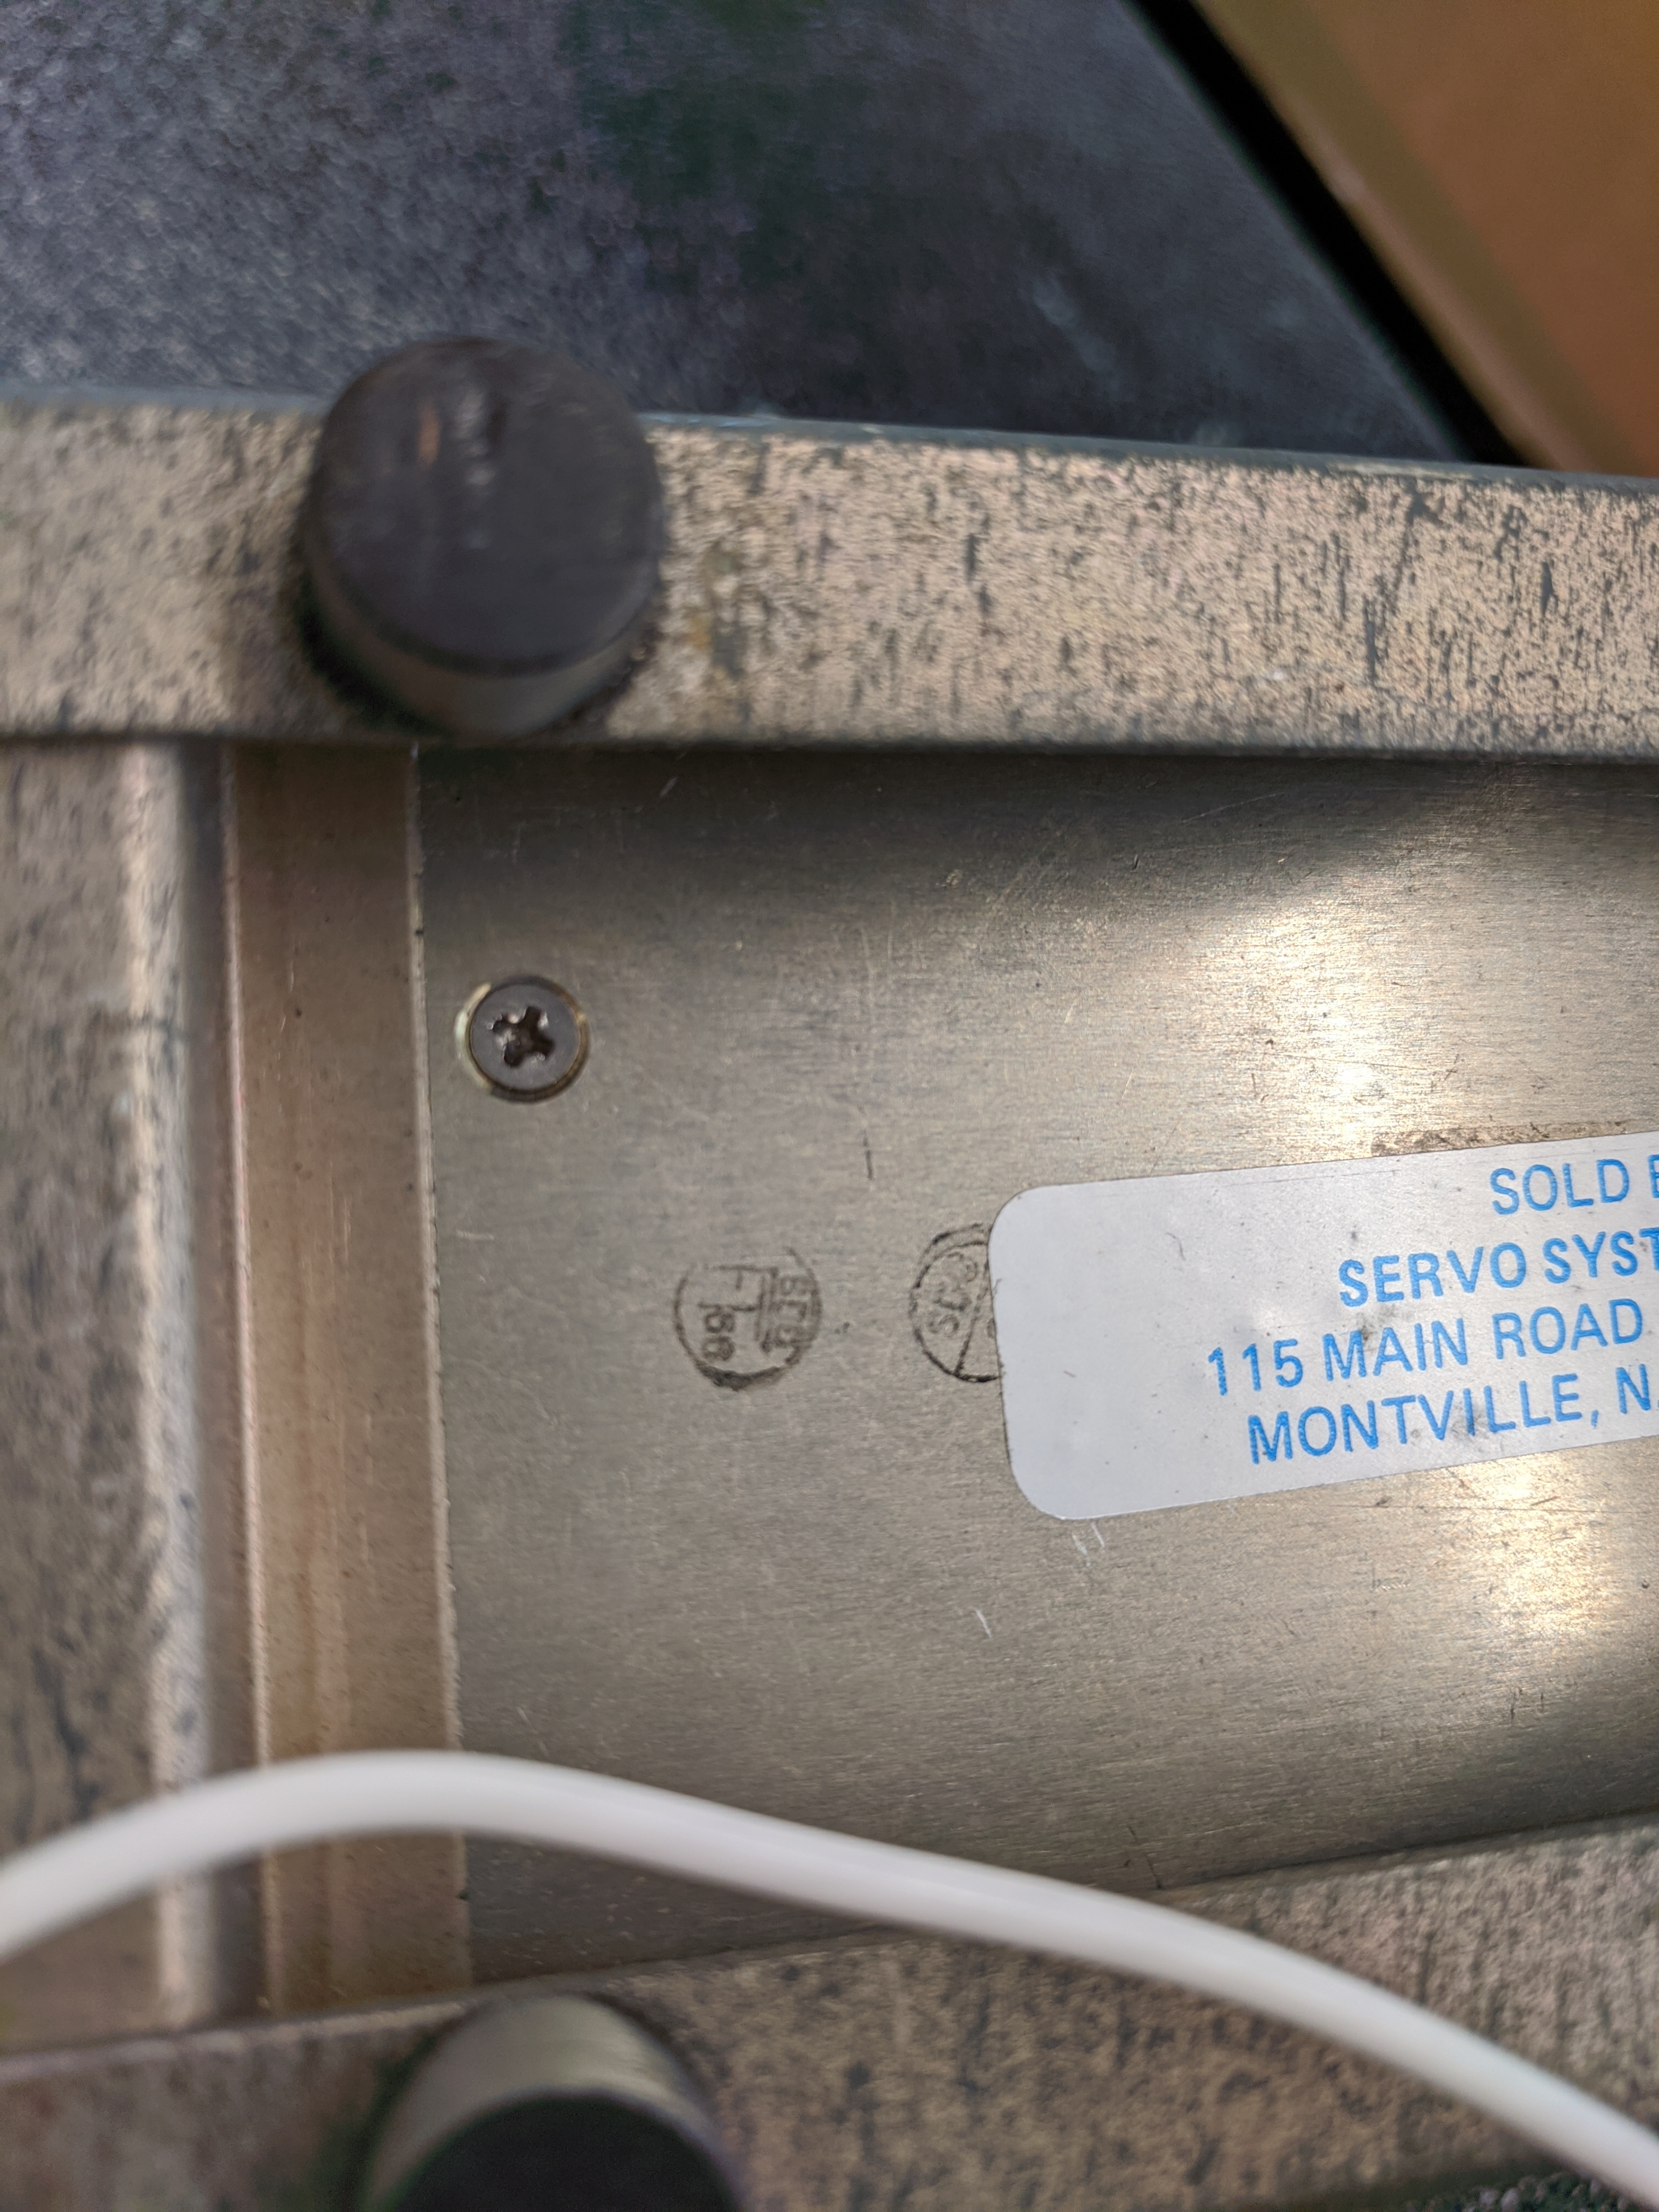cross_recessed_screw: (451, 965, 584, 1092)
